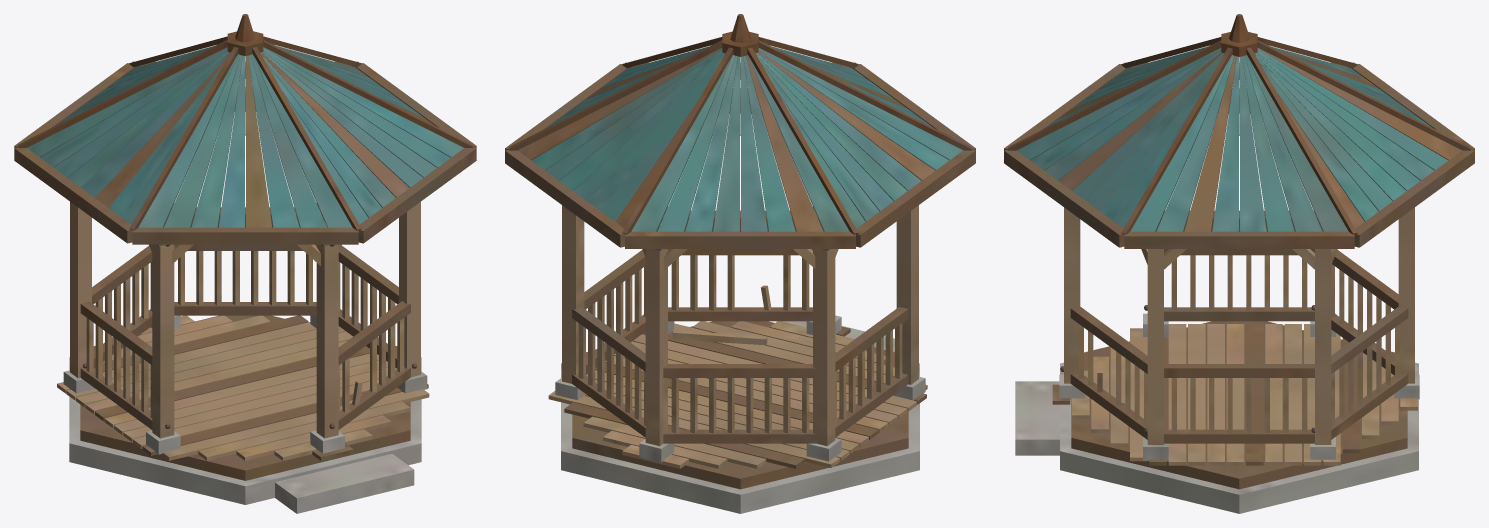
File: RE20_gazebo.glb
3 renders of one model, left to right at view 1: azimuth 30°, elevation 25°; view 2: azimuth 150°, elevation 25°; view 3: azimuth 270°, elevation 25°, orthographic.
Parts seen in each view (by area): view 1: Weathered hexagonal foundation; view 2: Weathered hexagonal foundation; view 3: Weathered hexagonal foundation.
Boxes of the visible parts, x1=… form: Weathered hexagonal foundation: x1=14, y1=14, x2=476, y2=513; Weathered hexagonal foundation: x1=505, y1=14, x2=975, y2=513; Weathered hexagonal foundation: x1=1004, y1=14, x2=1474, y2=513.
Size of the model in its own units: 3.52 by 3.85 by 4.
Materials: 5 (5 with a texture image).
